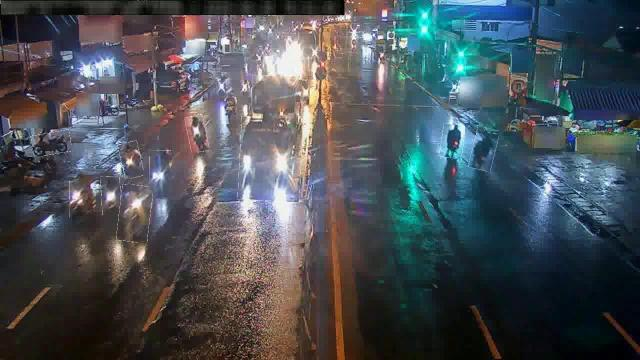Bike: (118, 185, 152, 243), (470, 127, 498, 171), (31, 131, 71, 155), (149, 150, 171, 190), (440, 125, 464, 159), (70, 182, 92, 219), (101, 176, 121, 216), (120, 142, 142, 178), (186, 116, 208, 152), (224, 92, 236, 116)
Bus: (252, 76, 300, 128)
Truck: (238, 116, 302, 202)
